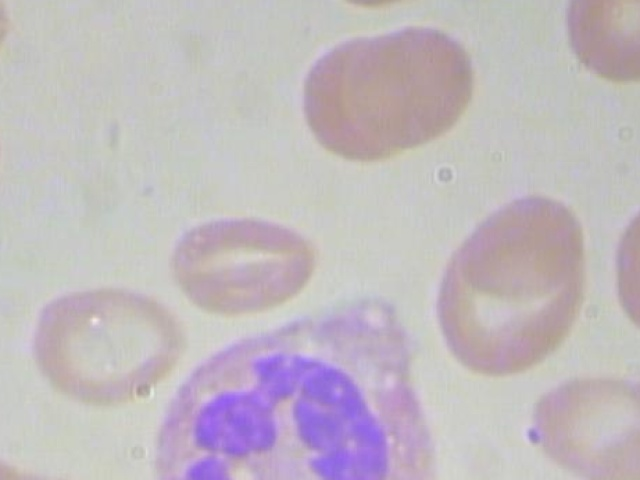RBC: (17, 282, 185, 412), (153, 191, 321, 320), (340, 18, 475, 151), (461, 177, 582, 299), (526, 359, 640, 480), (554, 0, 640, 99), (595, 182, 640, 345), (0, 88, 13, 246), (0, 0, 13, 83)
WBC: (147, 281, 442, 480)
